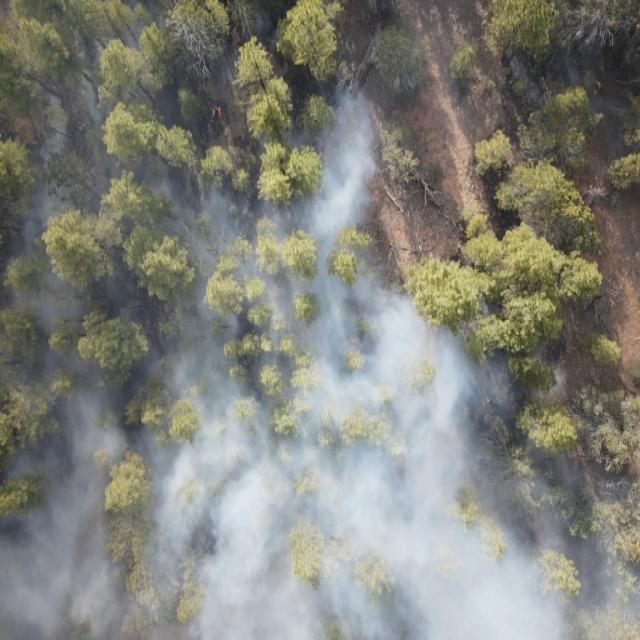fire: (210, 100, 224, 120)
smoke: (0, 0, 381, 640), (477, 345, 572, 640), (381, 286, 434, 640), (434, 319, 477, 640), (572, 480, 640, 640)
